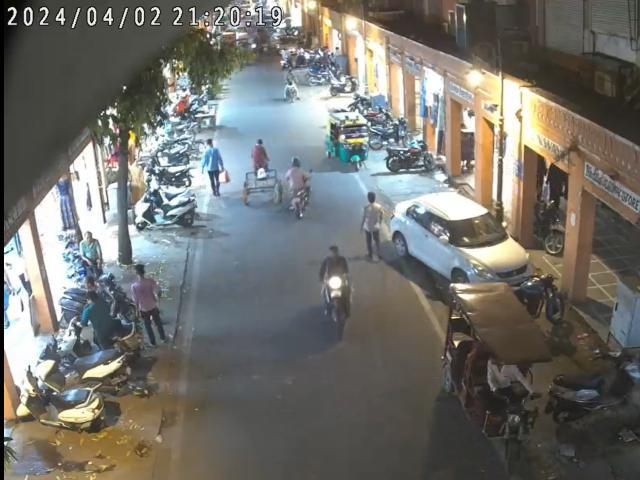auto: (326, 114, 368, 168)
car: (390, 196, 528, 288)
motorbike: (383, 140, 439, 173), (369, 117, 410, 148)
motorbike-rider: (286, 159, 312, 218)
no_helmet: (330, 246, 342, 263)
person: (128, 262, 166, 346), (78, 294, 116, 349), (360, 190, 387, 257), (203, 140, 226, 200), (80, 231, 104, 278)
rickshow: (244, 140, 284, 208)
scooty: (551, 338, 640, 424), (9, 373, 102, 434), (37, 346, 129, 392), (63, 284, 141, 324), (134, 180, 196, 229)
scooty-rider: (319, 240, 352, 338)
